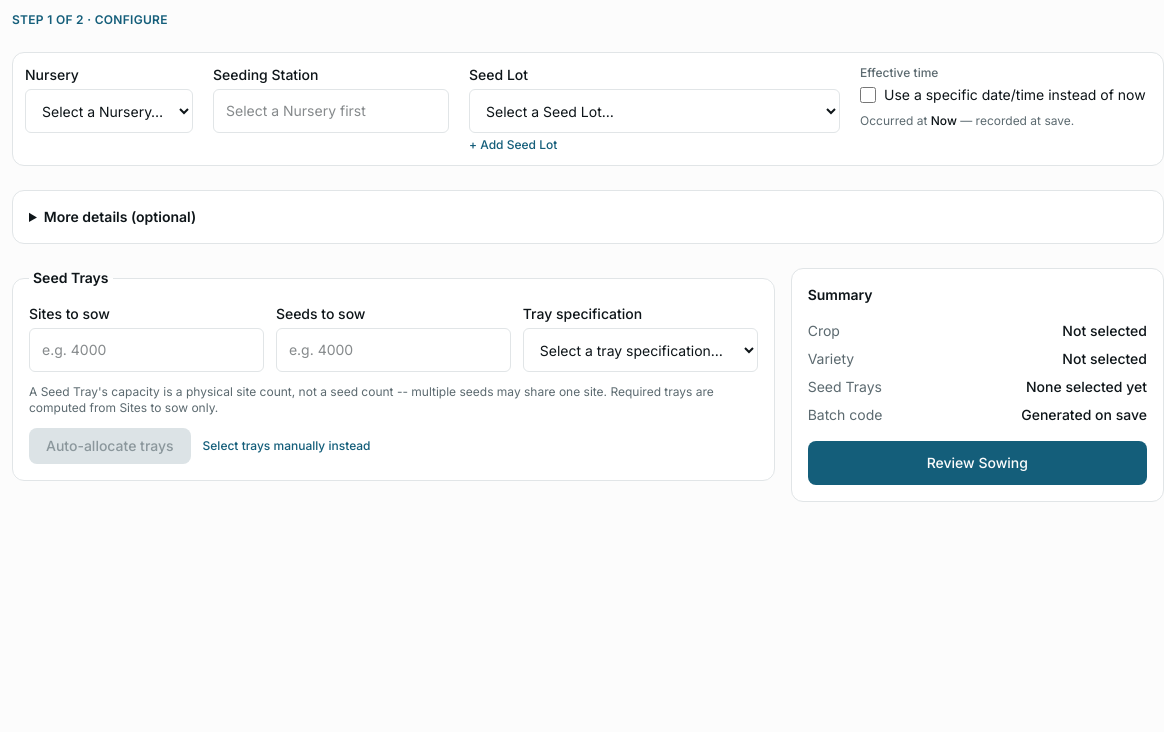
Test: SowingForm › shows an actionable configuration message when the Nursery has no Seeding Station
Select "NUR-01" in the dropdown labelled "Nursery" at (109, 111), box 25,89 -> 193,133
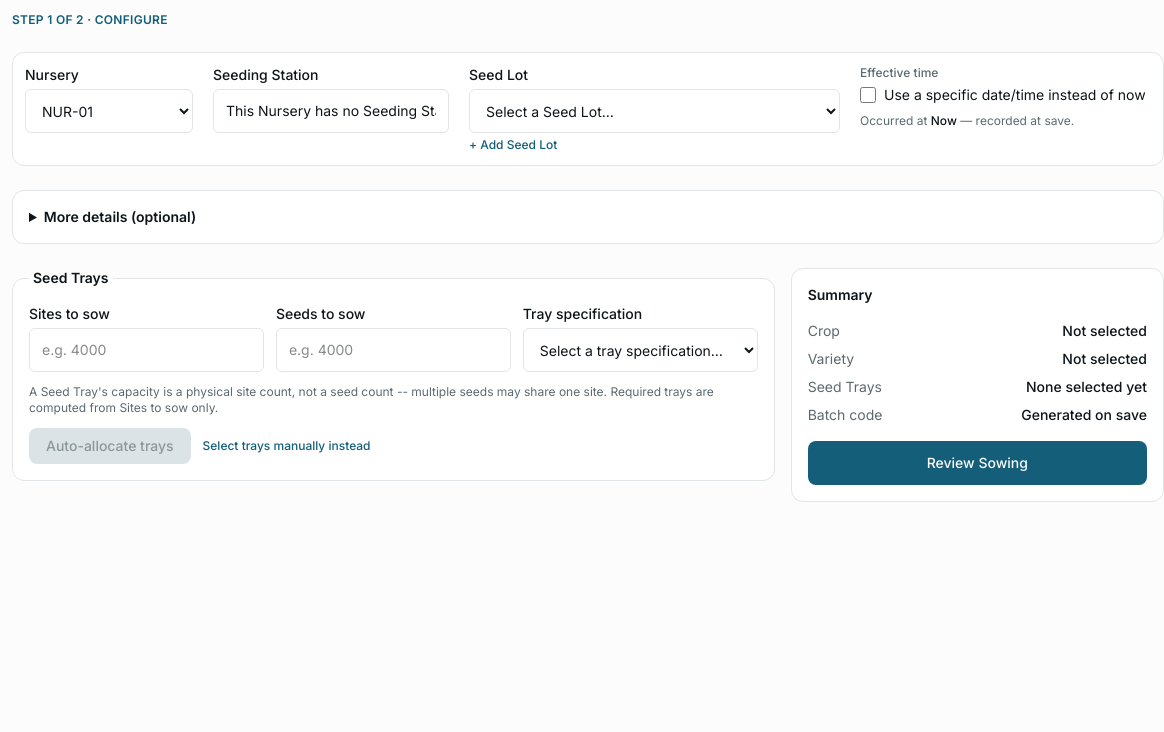
Expected: the field showing "This Nursery has no Seeding Station configured" is shown, 213,89 -> 449,133
Click the button "Review Sowing" at (977, 463), box 808,441 -> 1147,485
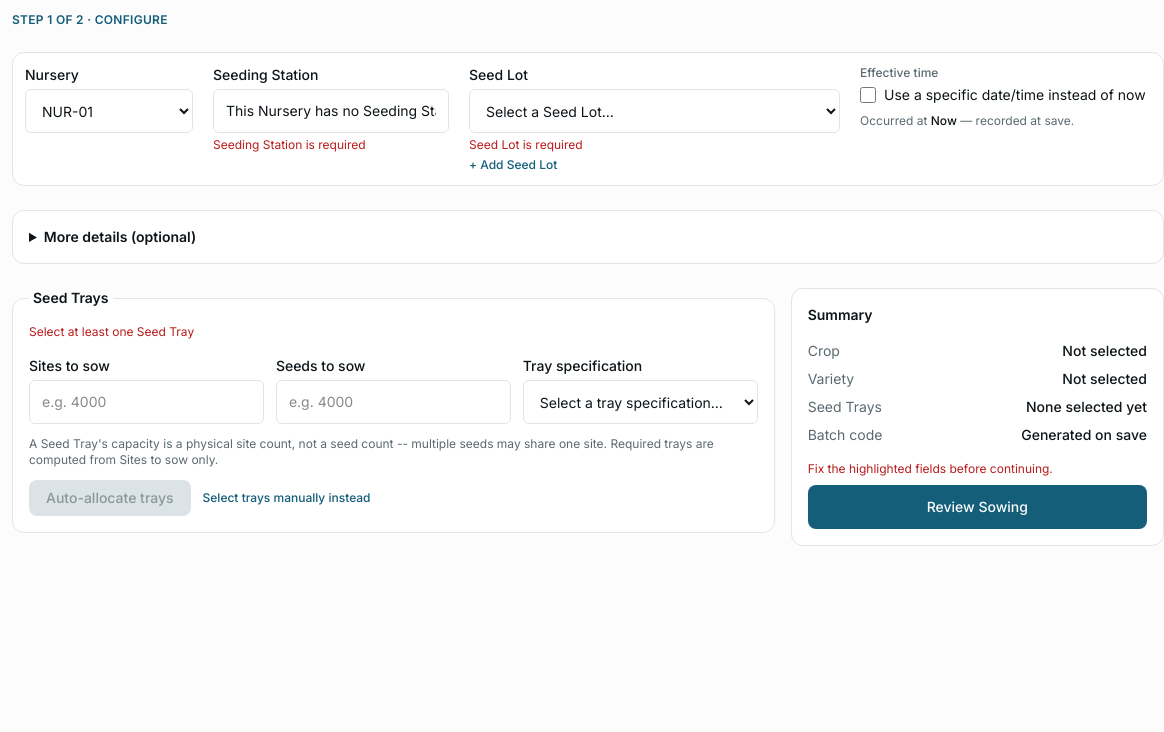
Expected: the text "Seeding Station is required" is shown, 213,137 -> 366,152
